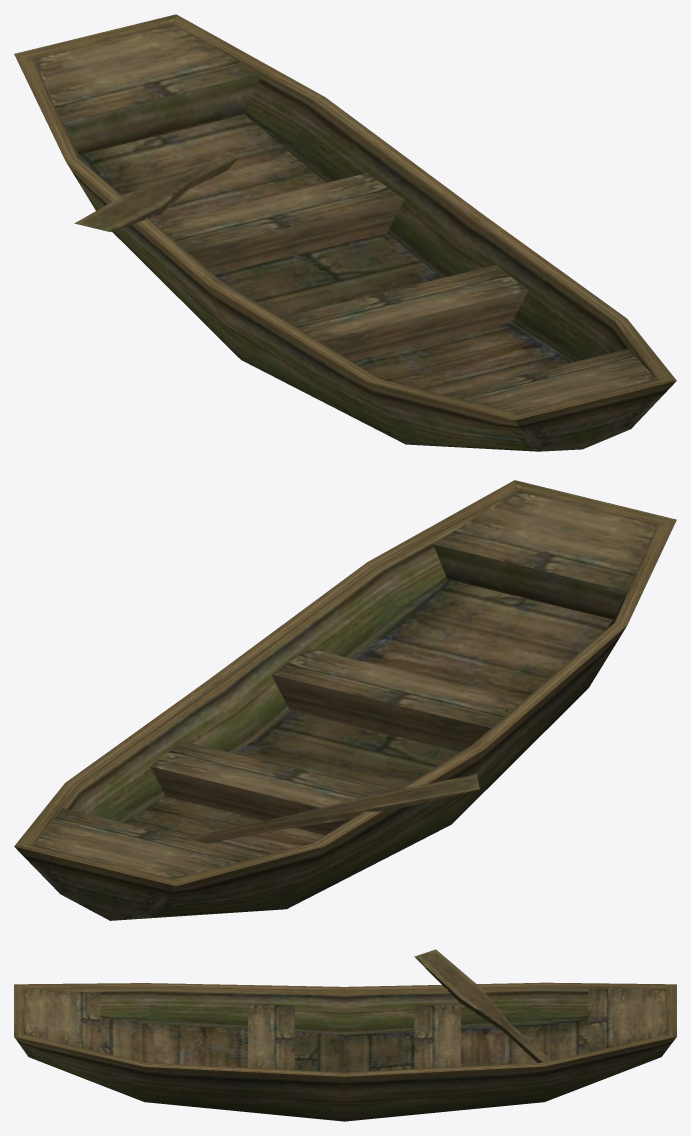
File: Utility_Object_boat02.FBX
3 renders of one model, top to bottom at view 1: azimuth 30°, elevation 25°; view 2: azimuth 150°, elevation 25°; view 3: azimuth 270°, elevation 25°, orthographic. The views are drawn at different scales.
Visible parts, largest first — view 1: Utility_Object_boat02; view 2: Utility_Object_boat02; view 3: Utility_Object_boat02.
Boxes of the visible parts, left/top/right/bottom form: Utility_Object_boat02: left=14, top=14, right=676, bottom=451; Utility_Object_boat02: left=14, top=480, right=676, bottom=920; Utility_Object_boat02: left=14, top=949, right=676, bottom=1121.
Bounding box in the file's own units: 188 × 70.09 × 477.
